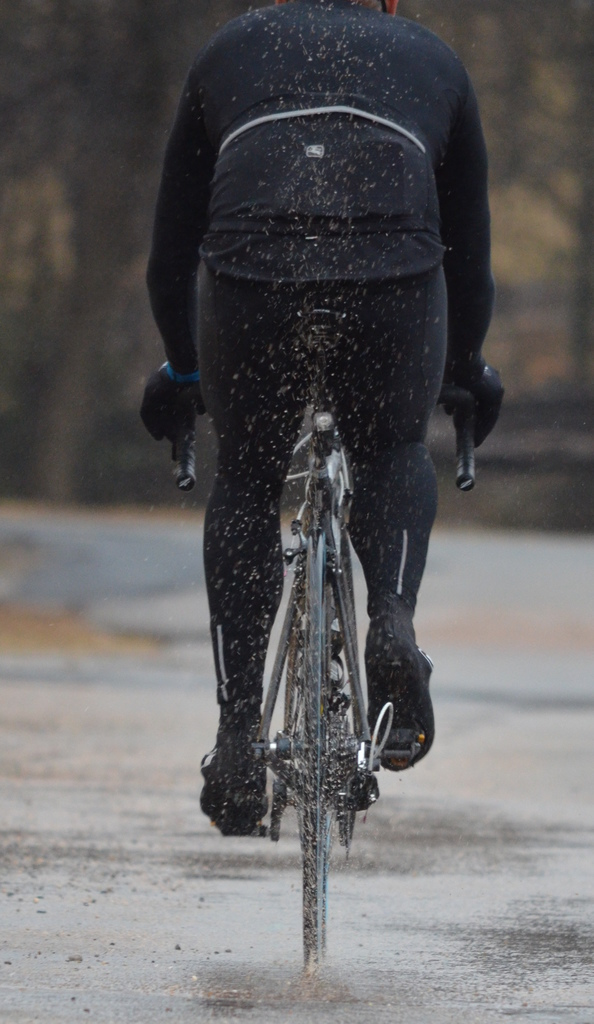Bike: (115, 348, 514, 1024)
